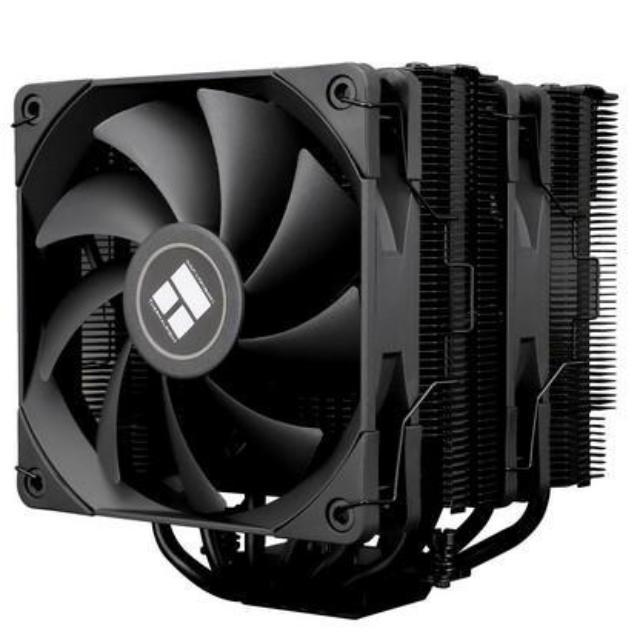CPU_Fan: (0, 47, 640, 630)
